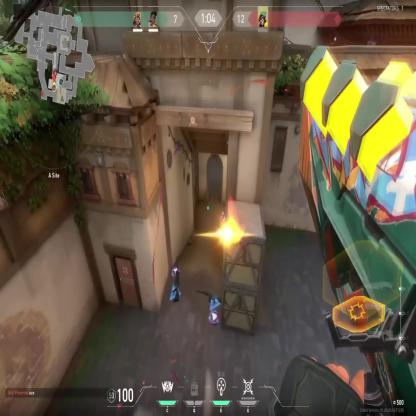enemy: (217, 210, 228, 249)
enemy_head: (222, 212, 225, 218)
